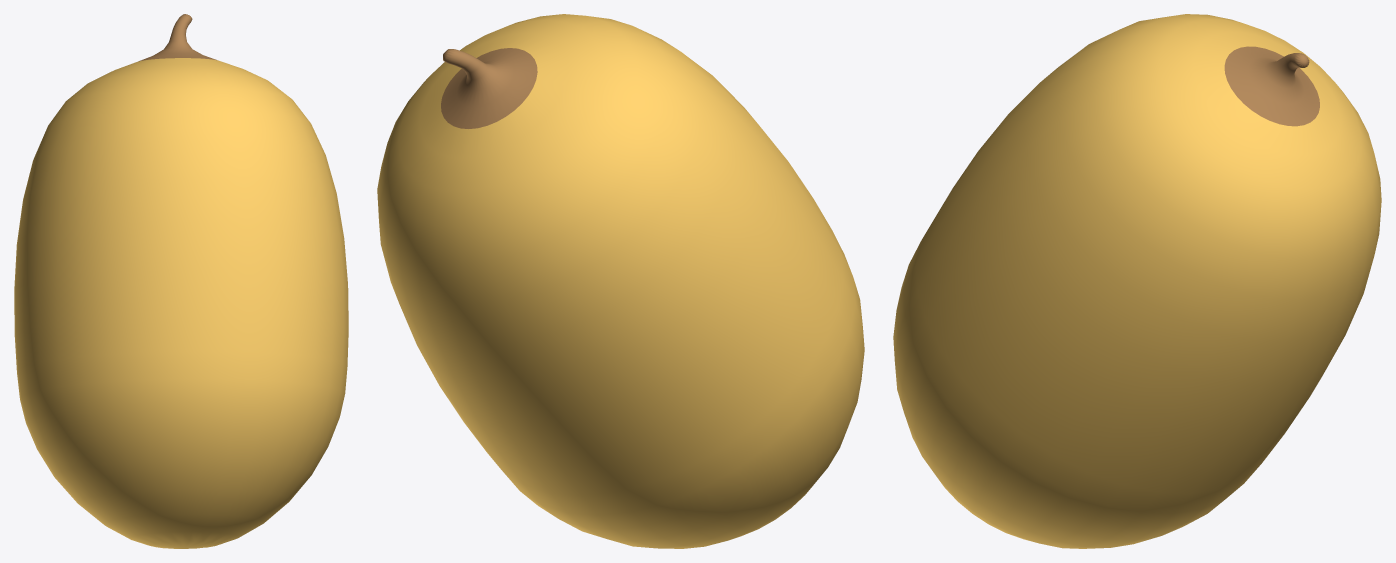
The model's file is Smooth_melon_0.fbx.
The picture shows the model from 3 angles, left to right: view 1: azimuth 30°, elevation 25°; view 2: azimuth 150°, elevation 25°; view 3: azimuth 270°, elevation 25°; orthographic projection. The views are drawn at different scales.
Parts seen in each view (by area): view 1: Smooth_melon_0; view 2: Smooth_melon_0; view 3: Smooth_melon_0.
Boxes of the visible parts, x1,y1,x2,y2 form: Smooth_melon_0: (14, 14, 348, 548); Smooth_melon_0: (377, 14, 864, 548); Smooth_melon_0: (893, 14, 1381, 548).
Bounding box in the file's own units: 156 × 207 × 171.
